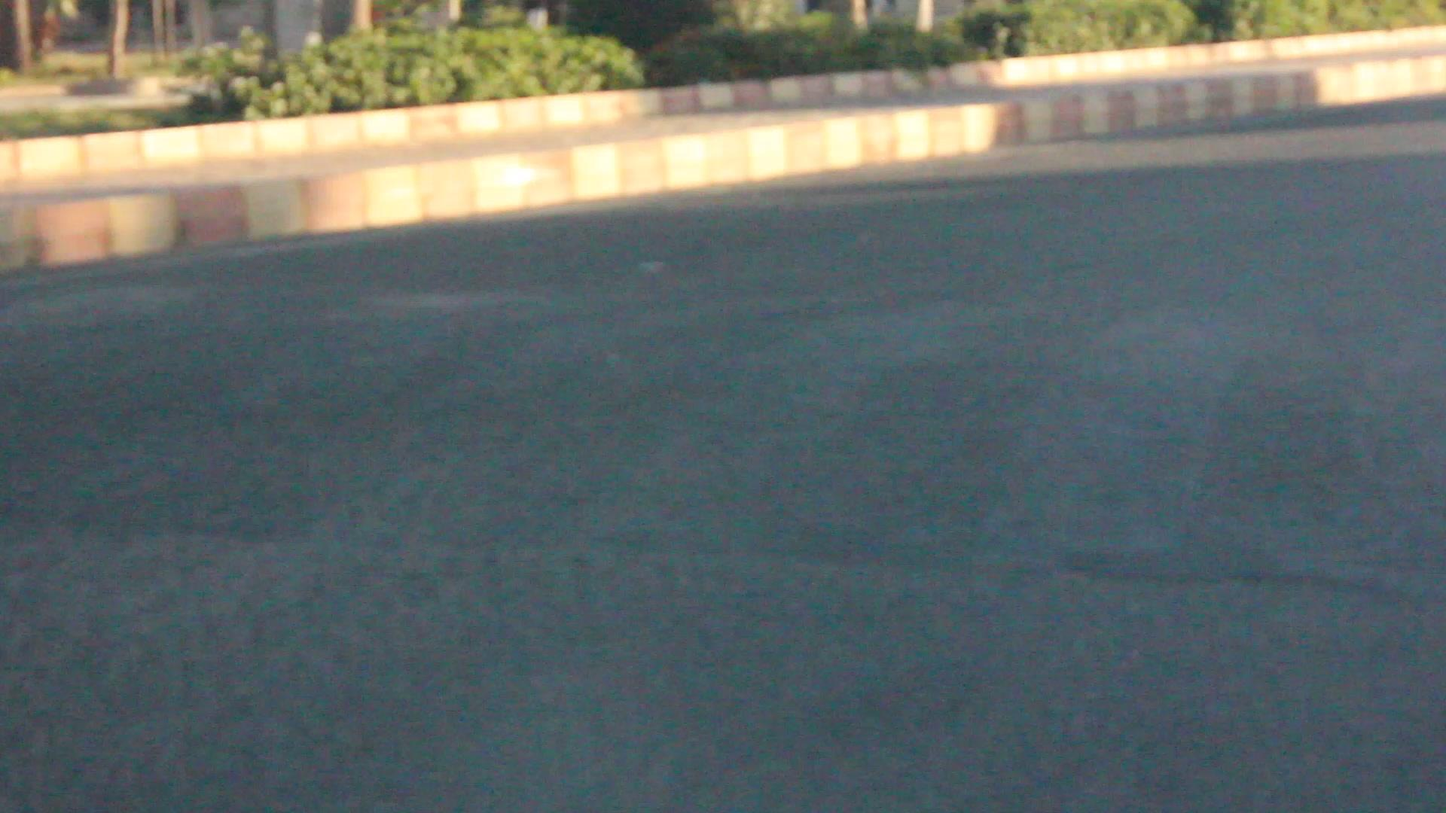Bump: (92, 254, 1446, 561)
